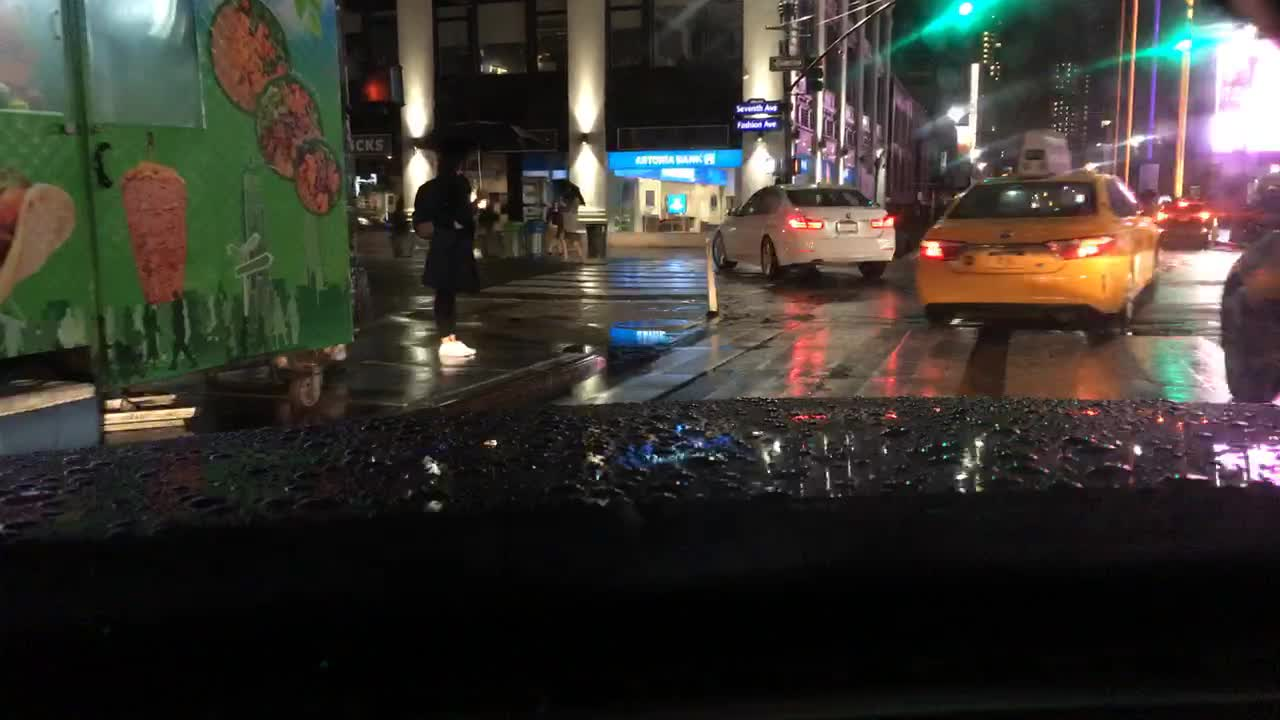car: (912, 173, 1162, 334), (713, 180, 895, 283), (1218, 227, 1277, 404), (1227, 170, 1277, 247), (1147, 197, 1219, 250)
person: (410, 121, 476, 357), (544, 198, 572, 258), (388, 198, 410, 258)
traffic light: (805, 53, 824, 95)
traffic sign: (769, 54, 803, 69)
truck: (0, 0, 360, 409)
